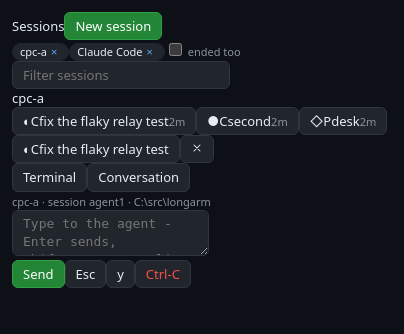
Scenario: SessionsApp › opens the session of the hash filtered to its worker; tabs switch with Ctrl+1..9 and close to detach
Expected: the element with test id "tab-cpc-a/claude/abc" is shown, [12,135,214,163]
Expected: the element with test id "scope-worker" shows "cpc-a", [20,44,47,59]
Click the text "second".
click(249, 121)  # box [227,112,271,130]
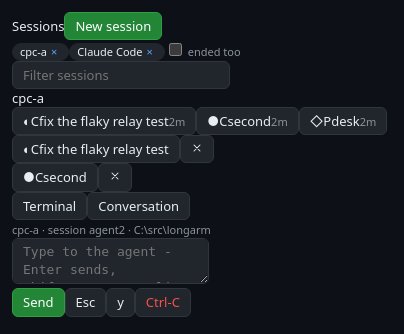
Result: the element with test id "tab-cpc-a/claude/def" is shown at [12,163,132,192]
Press 1
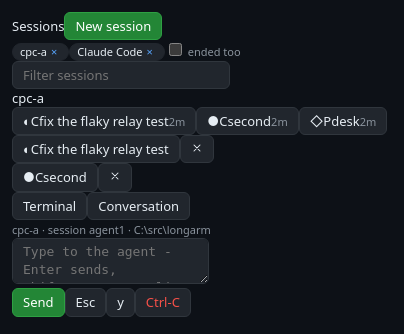
Press Tab
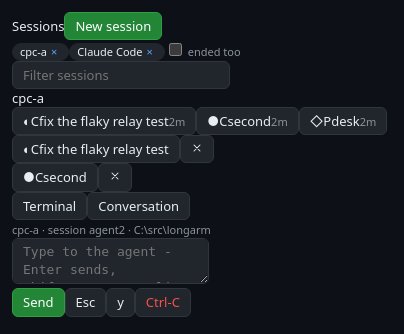
// closing detaches
Click the button named "close second".
click(115, 177)  # box [98,163,132,192]
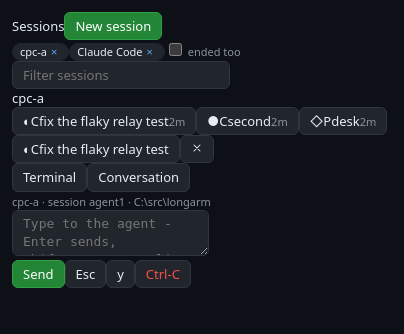
Result: the element with test id "tab-cpc-a/claude/def" is gone
